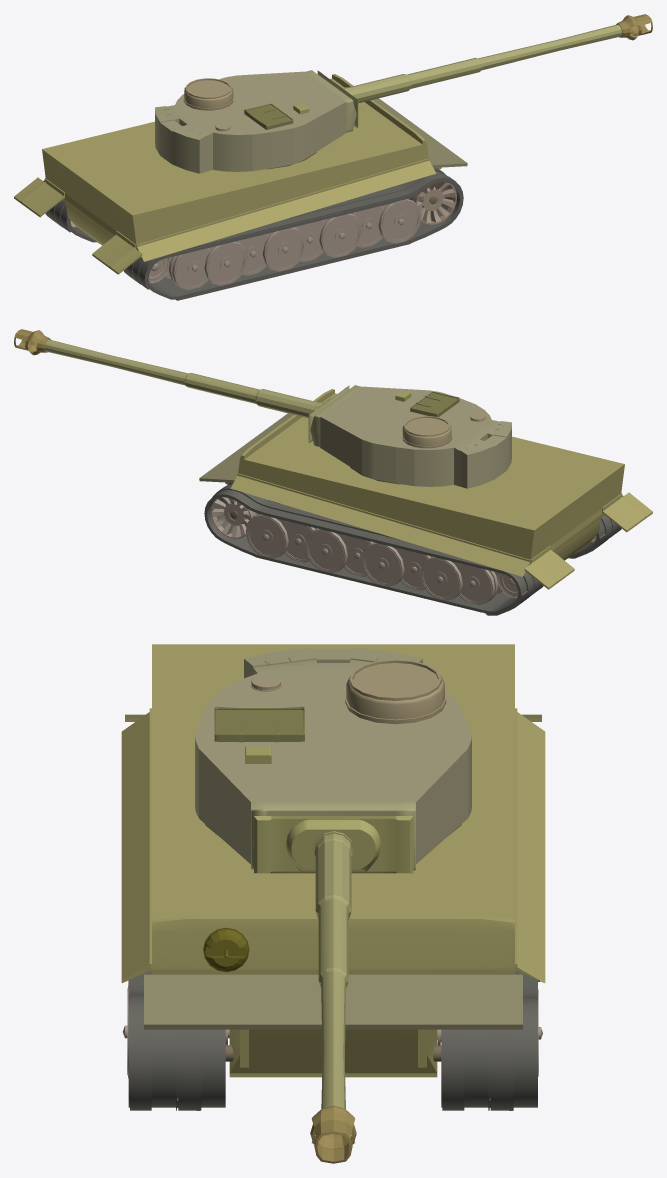
The model's file is Tiger Tank Mesh 3 Flipped.fbx.
3 views of the same model, one above another, from view 1: azimuth 30°, elevation 25°; view 2: azimuth 150°, elevation 25°; view 3: azimuth 270°, elevation 25° (orthographic). The views are drawn at different scales.
Visible parts, largest first — view 1: polySurface6, polySurface3, polySurface121, polySurface4, polySurface102, polySurface93, polySurface84, polySurface111, polySurface9, polySurface115, polySurface109, polySurface7 (+7 smaller); view 2: polySurface6, polySurface3, polySurface120, polySurface4, polySurface35, polySurface26, polySurface17, polySurface71, polySurface9, polySurface74, polySurface69, polySurface7 (+7 smaller); view 3: polySurface6, polySurface3, polySurface7, polySurface121, polySurface120, polySurface4, polySurface1, polySurface9, polySurface122, polySurface2, polySurface8, polySurface124.
Part boxes in pixels (box(x1,y1,x2,y2)): polySurface6: box(14, 74, 441, 274); polySurface3: box(155, 71, 346, 173); polySurface121: box(123, 167, 463, 300); polySurface4: box(343, 24, 621, 103); polySurface102: box(378, 199, 421, 243); polySurface93: box(319, 213, 362, 257); polySurface84: box(262, 227, 305, 271); polySurface111: box(204, 241, 247, 285); polySurface9: box(183, 78, 233, 110); polySurface115: box(408, 182, 456, 224); polySurface109: box(172, 248, 210, 289); polySurface7: box(373, 98, 467, 167); polySurface6: box(225, 389, 652, 589); polySurface3: box(320, 386, 511, 488); polySurface120: box(204, 482, 543, 615); polySurface4: box(45, 339, 323, 418); polySurface35: box(245, 514, 288, 558); polySurface26: box(361, 542, 404, 586); polySurface17: box(305, 529, 347, 572); polySurface71: box(419, 557, 462, 600); polySurface9: box(402, 416, 452, 448); polySurface74: box(210, 497, 258, 539); polySurface69: box(456, 563, 494, 604); polySurface7: box(199, 413, 293, 482); polySurface6: box(121, 644, 545, 1077); polySurface3: box(195, 648, 471, 864); polySurface7: box(144, 974, 522, 1029); polySurface121: box(128, 971, 225, 1110); polySurface120: box(441, 971, 537, 1110); polySurface4: box(313, 831, 353, 1108); polySurface1: box(254, 816, 413, 873); polySurface9: box(345, 659, 446, 724); polySurface122: box(214, 706, 304, 742); polySurface2: box(251, 802, 415, 870); polySurface8: box(310, 1105, 356, 1163); polySurface124: box(203, 927, 249, 972).
Bounding box in the file's own units: 20.39 × 4.69 × 6.42.
